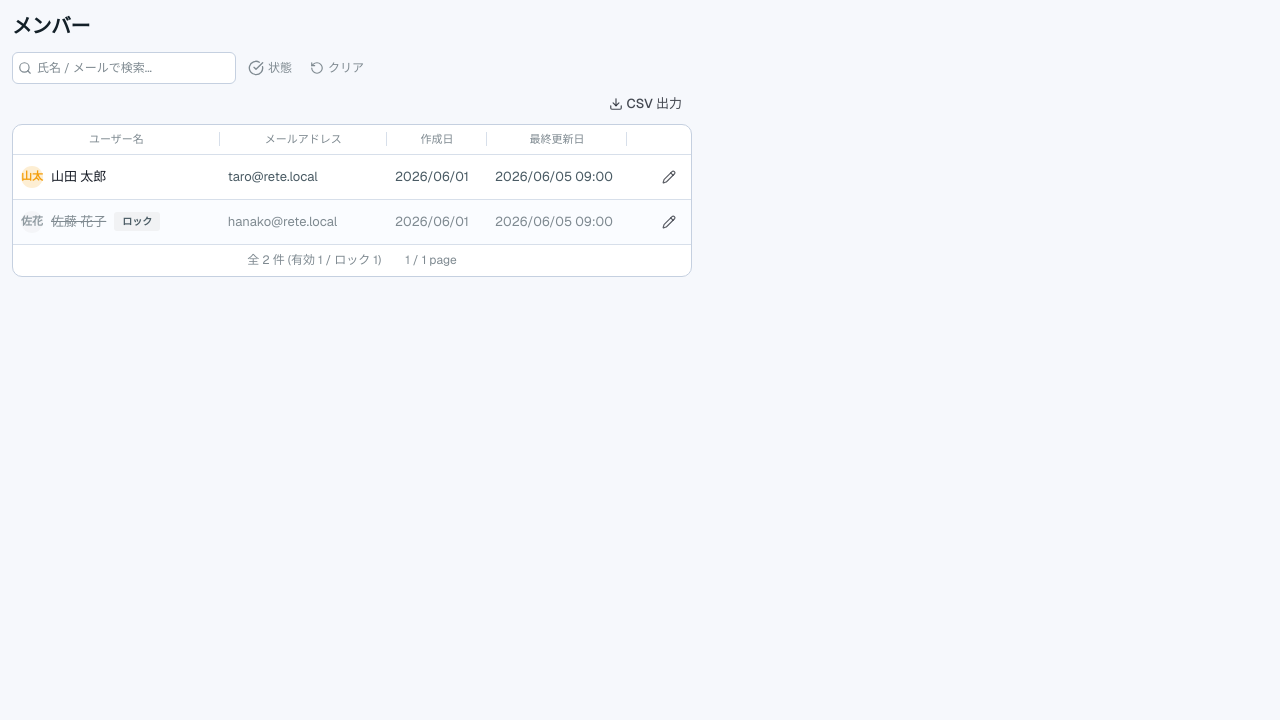
MembersScreen › 編集オーバーレイの初期描画: 姓・名・メール・ステータスの順で表示し、権限とシステムアクセスの UI は無い（set-0070/set-0096/set-0181）
Click the button named "山田 太郎 を編集". click: (669, 176)
box: [655,162,683,190]
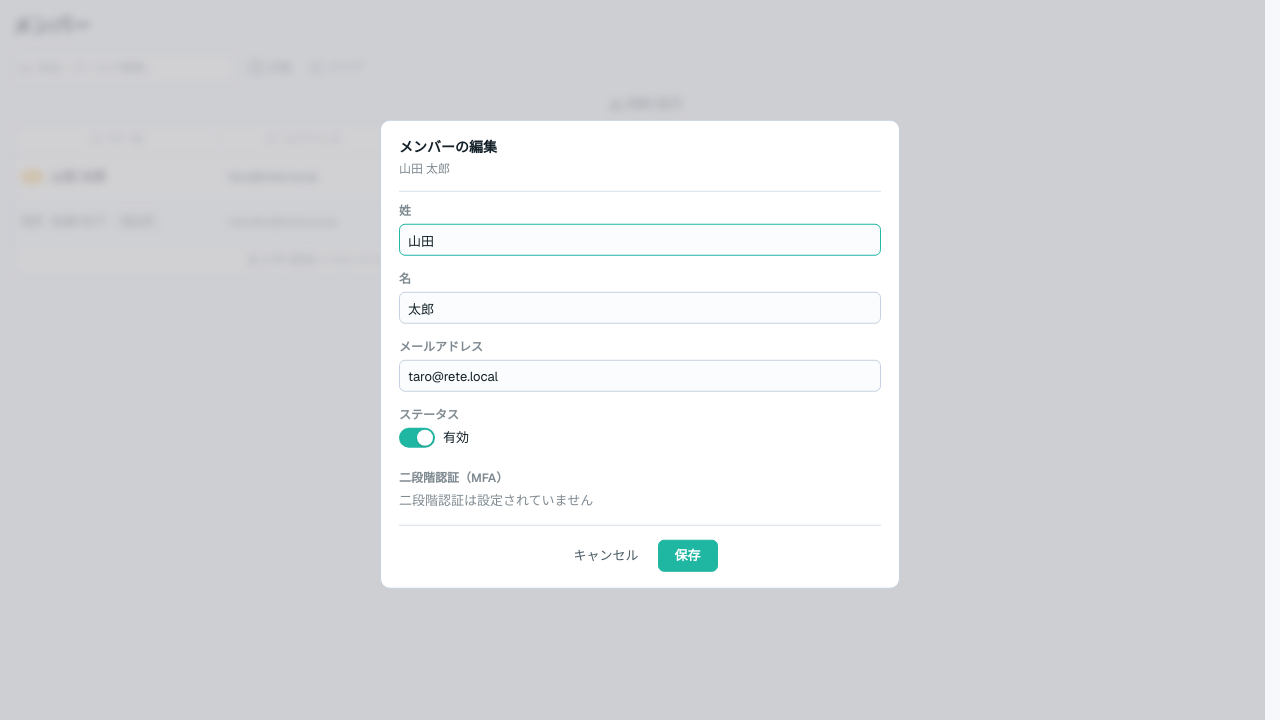
Result: the heading "メンバーの編集" is shown at [399,138,497,156]
Result: the field with test id "member-editor-family-name" holds "山田" at [399,224,881,256]
Result: the field with test id "member-editor-given-name" holds "太郎" at [399,292,881,324]
